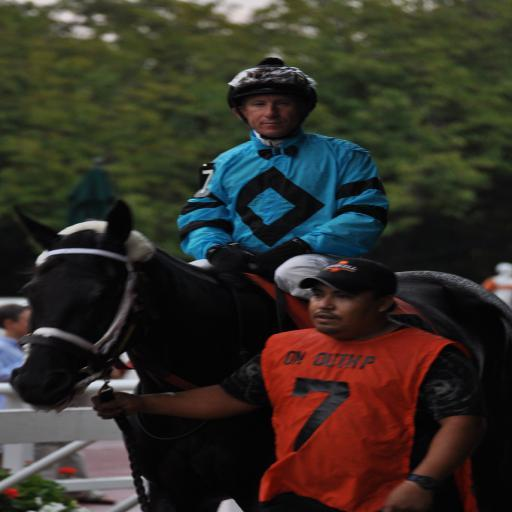Horse: (8, 196, 512, 512)
